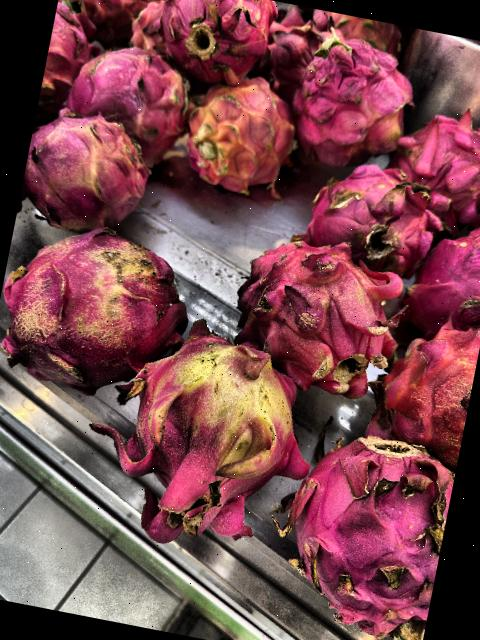buah-naga-belum-matang: (99, 307, 334, 576), (0, 209, 199, 396), (181, 68, 310, 203), (18, 109, 156, 228)
buah-naga-matang: (274, 419, 459, 640), (224, 227, 408, 398), (299, 142, 457, 275), (363, 307, 480, 463), (285, 36, 413, 164), (57, 36, 199, 146), (142, 0, 285, 93), (384, 100, 480, 227), (37, 0, 111, 118), (407, 217, 480, 333), (256, 18, 322, 88), (54, 0, 161, 39)
